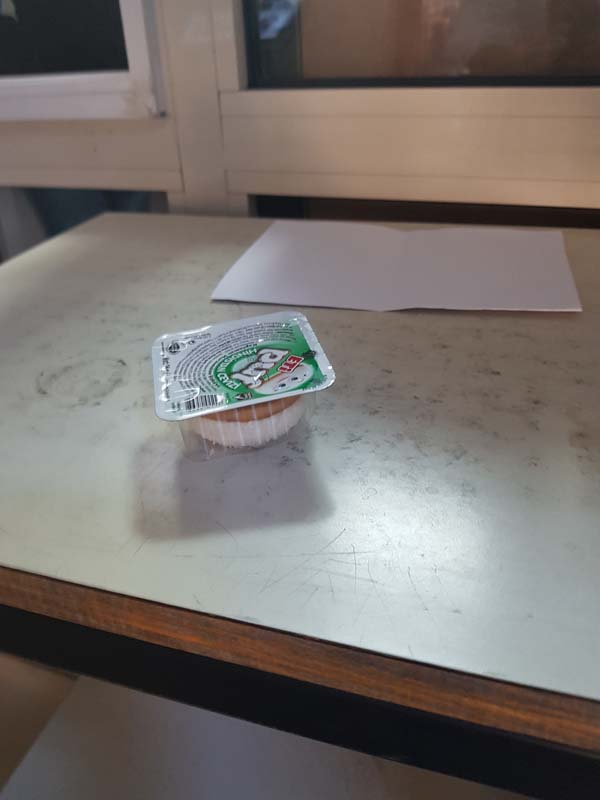etipuf: (141, 307, 342, 447)
